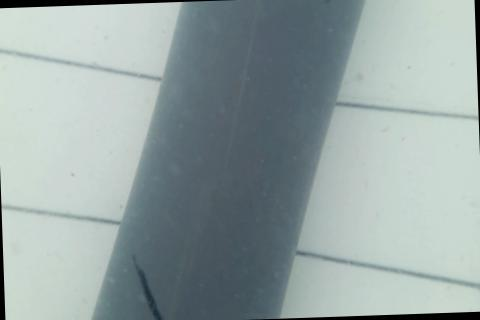keretakan: (131, 251, 171, 320)
